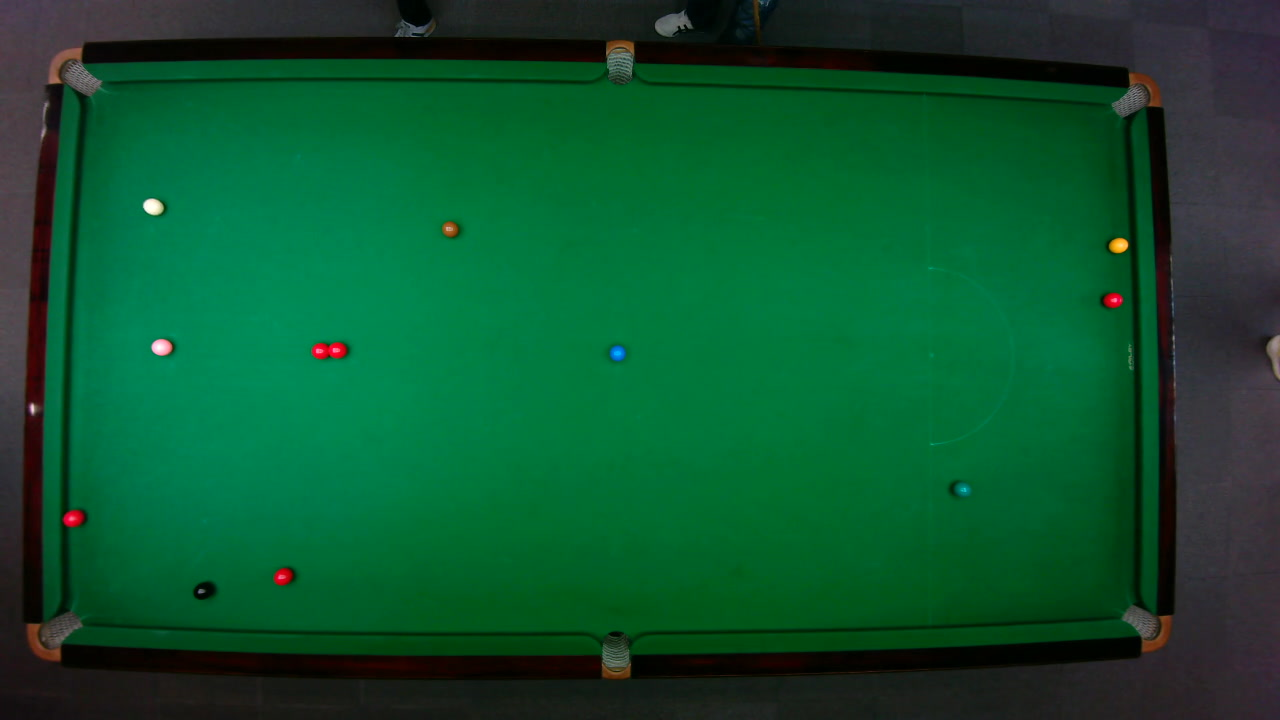bag: (25, 609, 84, 661), (45, 46, 102, 96), (1119, 603, 1171, 652), (1108, 71, 1162, 117), (600, 629, 629, 680), (605, 38, 633, 85)
black: (192, 581, 212, 600)
blue: (608, 344, 626, 361)
brown: (440, 220, 459, 237)
green: (950, 480, 972, 497)
pink: (149, 336, 173, 356)
red: (61, 508, 85, 527), (272, 566, 294, 585), (325, 340, 347, 359), (310, 341, 330, 360), (1101, 291, 1123, 308)
white: (141, 196, 165, 216)
yellow: (1107, 236, 1129, 253)
zone: (927, 266, 1013, 445)
